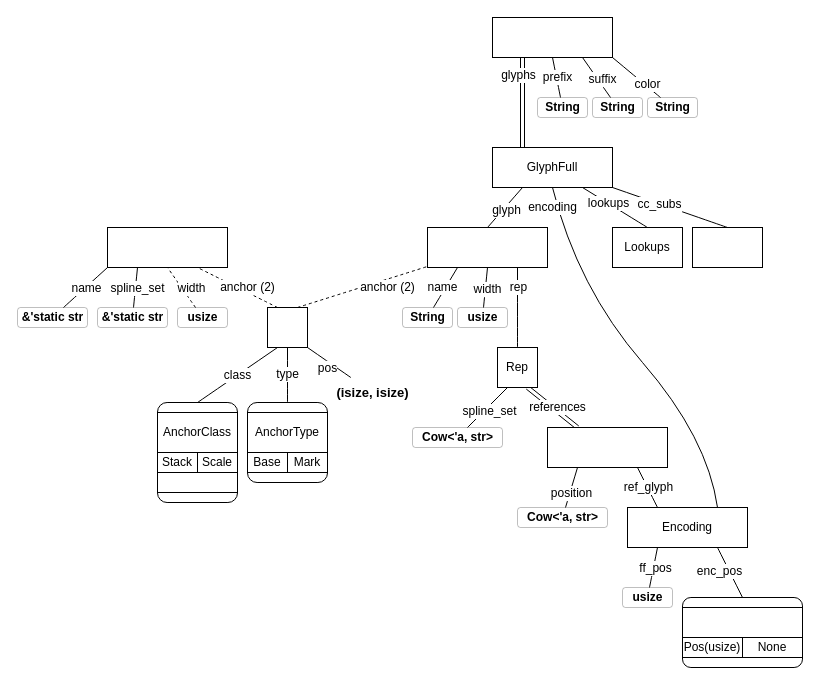
Some shapes in this 830 by 695 pixel diagram are drawn without their labels. Each missing label, with the centre of its shape:
Anchor: the point at 287,327
Cc: the point at 727,247
EncPos: the point at 742,622
GlyphBasic: the point at 487,247
GlyphBlock: the point at 552,37
GlyphDescriptor: the point at 167,247
Ref: the point at 607,447
Special(&'static str): the point at 197,482
